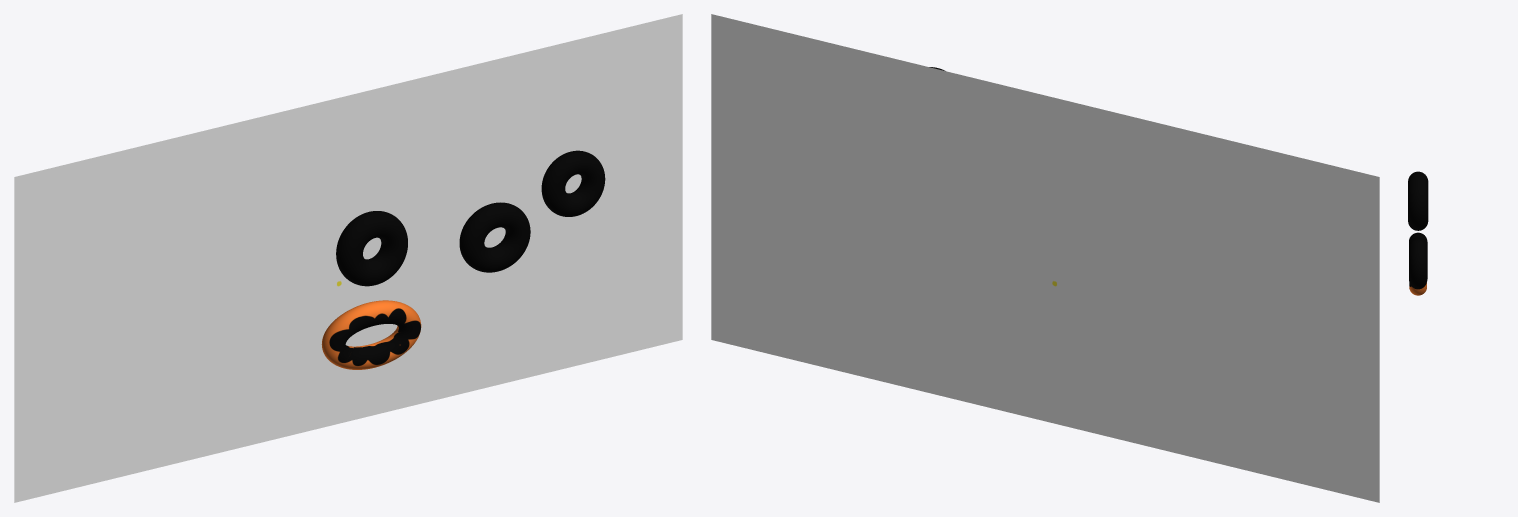
Rendered from donuts.fbx.
The picture shows the model from 3 angles, left to right: view 1: azimuth 30°, elevation 25°; view 2: azimuth 150°, elevation 25°; view 3: azimuth 270°, elevation 25°; orthographic projection. The views are drawn at different scales.
Visible parts, largest first — view 1: root (×5); view 2: root; view 3: root (×4).
Part boxes in pixels (<box>): root (×5): <box>14,14,682,502</box>; root: <box>711,14,1379,502</box>; root (×4): <box>1408,171,1428,295</box>.
Bounding box in the file's own units: 1.35 × 0.629 × 0.2235.
5 materials, 5 textured.
